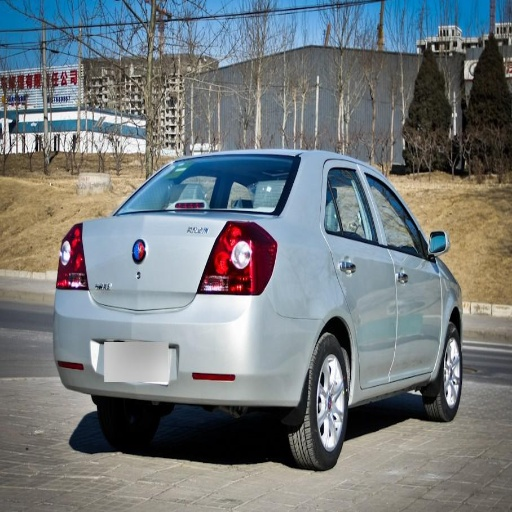back_bumper: (53, 288, 320, 409)
back_left_light: (57, 225, 87, 288)
back_right_door: (322, 160, 394, 388)
trunk: (88, 212, 233, 343)
